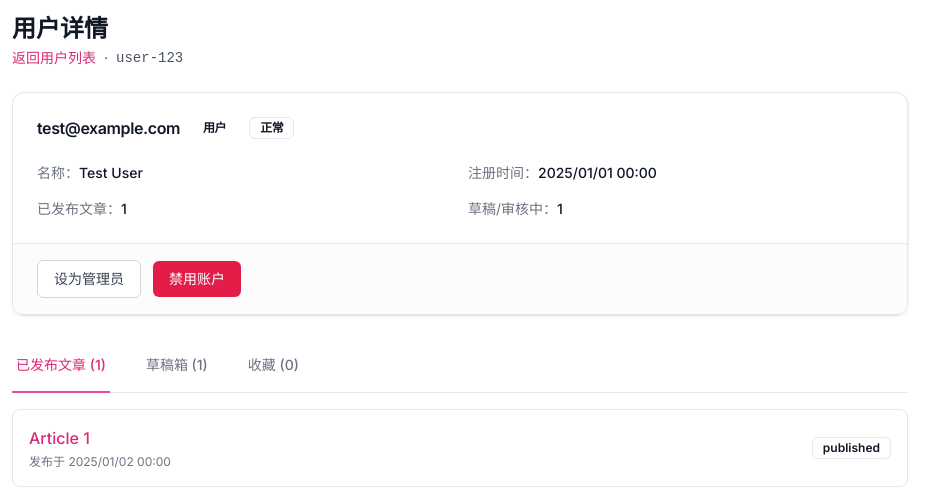
admin user detail page › renders user detail and content lists
Expected: the text "test@example.com" is shown, [37,118,180,138]
Expected: the text "Test User" is shown, [79,164,143,181]
Click the button "草稿箱 (1)". click: (177, 366)
box: [142,339,212,393]
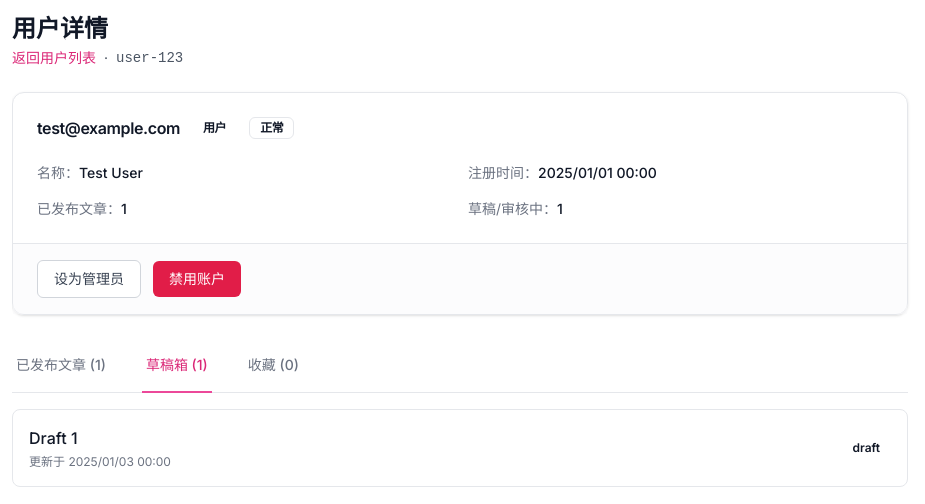
Expected: the text "Draft 1" is shown, [29,428,78,448]
